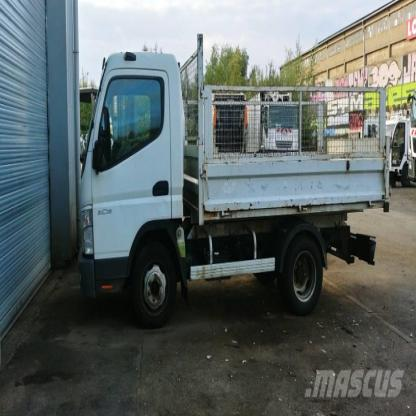truck: (76, 35, 392, 329)
